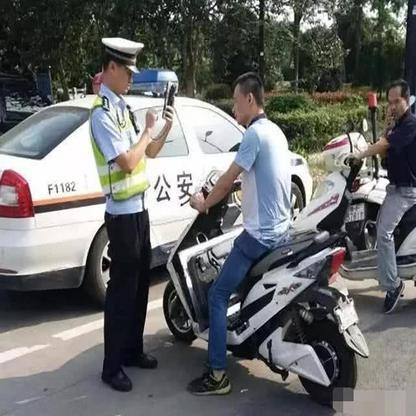target: (164, 71, 371, 400)
